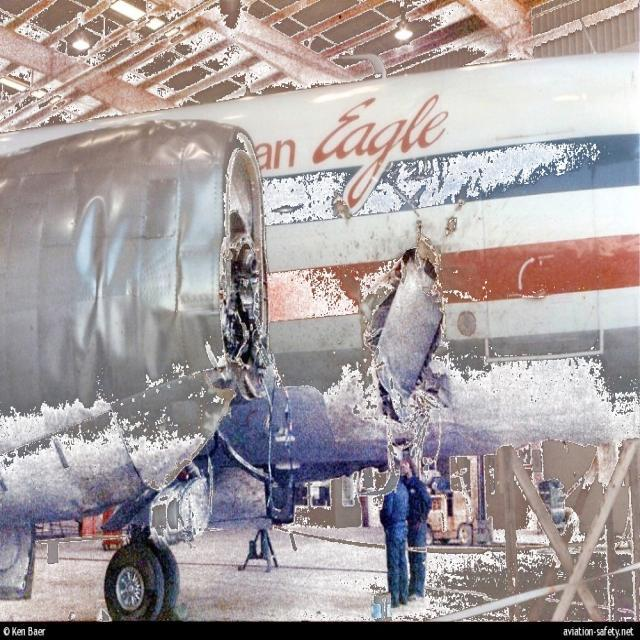dent: (44, 180, 193, 406)
